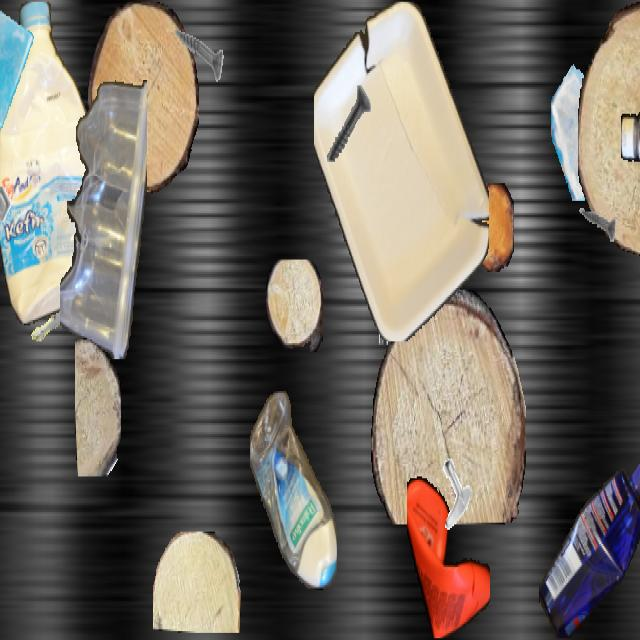glass: (551, 51, 635, 201), (0, 2, 38, 133)
metal: (317, 70, 379, 180), (14, 271, 72, 374), (166, 2, 224, 105), (371, 261, 417, 343), (431, 455, 475, 533), (576, 188, 616, 260), (0, 174, 18, 249)
plastic: (314, 2, 488, 340), (0, 2, 98, 325), (60, 73, 146, 357), (538, 450, 640, 638), (250, 391, 336, 590), (407, 471, 489, 638), (621, 76, 640, 198)
wood: (371, 290, 525, 524), (88, 2, 198, 194), (578, 2, 640, 254), (354, 166, 446, 300), (153, 532, 241, 631), (75, 338, 121, 476), (266, 260, 322, 352), (471, 183, 513, 272)
